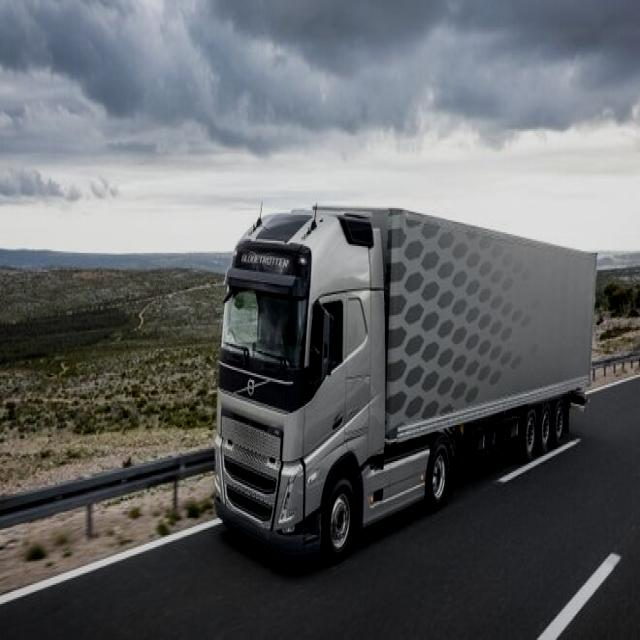TRUCK: (216, 199, 611, 565)
